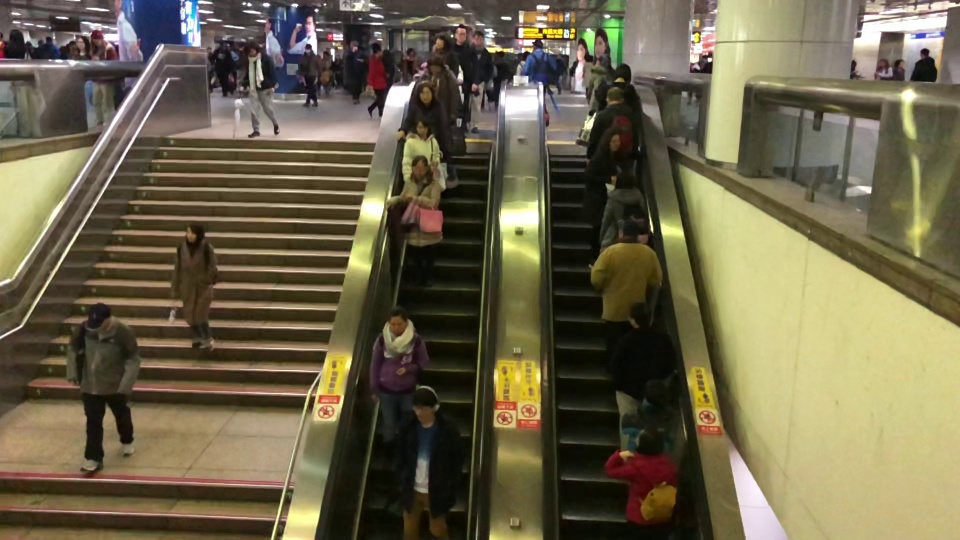person_head: (411, 385, 439, 426), (634, 426, 665, 454), (626, 301, 652, 328), (87, 303, 111, 329), (644, 380, 667, 406), (388, 305, 408, 333), (415, 80, 434, 104), (410, 155, 428, 180), (616, 220, 639, 238), (603, 128, 620, 151), (184, 221, 204, 240), (612, 63, 632, 82), (414, 115, 430, 136), (605, 86, 623, 104), (434, 31, 451, 50), (426, 53, 443, 71), (615, 172, 633, 188), (454, 24, 466, 44), (9, 29, 24, 44), (471, 30, 483, 47), (246, 41, 259, 56), (597, 53, 611, 66), (92, 31, 104, 46), (76, 36, 88, 50), (371, 43, 383, 57), (531, 39, 544, 51), (894, 57, 905, 68), (919, 47, 930, 57), (349, 40, 358, 52), (405, 47, 415, 57), (850, 58, 857, 71), (521, 51, 530, 61), (878, 57, 888, 66), (45, 35, 53, 44), (304, 43, 312, 52), (322, 50, 330, 58), (218, 40, 227, 47), (586, 56, 592, 62), (707, 52, 711, 58), (0, 32, 3, 39)
person_vbox: (64, 303, 141, 475), (589, 220, 664, 378), (395, 385, 464, 540), (368, 305, 429, 476), (605, 301, 669, 454), (385, 155, 444, 289), (604, 426, 677, 531), (170, 221, 219, 355), (419, 53, 462, 190), (582, 129, 621, 270), (620, 380, 681, 453), (585, 85, 641, 158), (395, 80, 450, 154), (599, 171, 650, 249), (244, 40, 280, 138), (523, 39, 556, 127), (400, 116, 442, 183), (453, 25, 480, 112), (91, 30, 115, 127), (471, 30, 492, 133), (598, 63, 641, 112), (420, 32, 460, 75), (365, 43, 387, 118), (71, 36, 92, 110), (299, 43, 322, 107), (588, 53, 613, 111), (345, 40, 367, 104), (213, 41, 236, 97), (909, 47, 937, 83), (4, 29, 31, 60), (321, 50, 334, 95), (37, 34, 61, 58), (399, 46, 417, 76), (582, 55, 592, 104), (874, 57, 894, 80), (516, 51, 530, 77), (849, 58, 864, 81), (893, 57, 905, 80), (702, 51, 712, 74), (0, 31, 6, 58)
